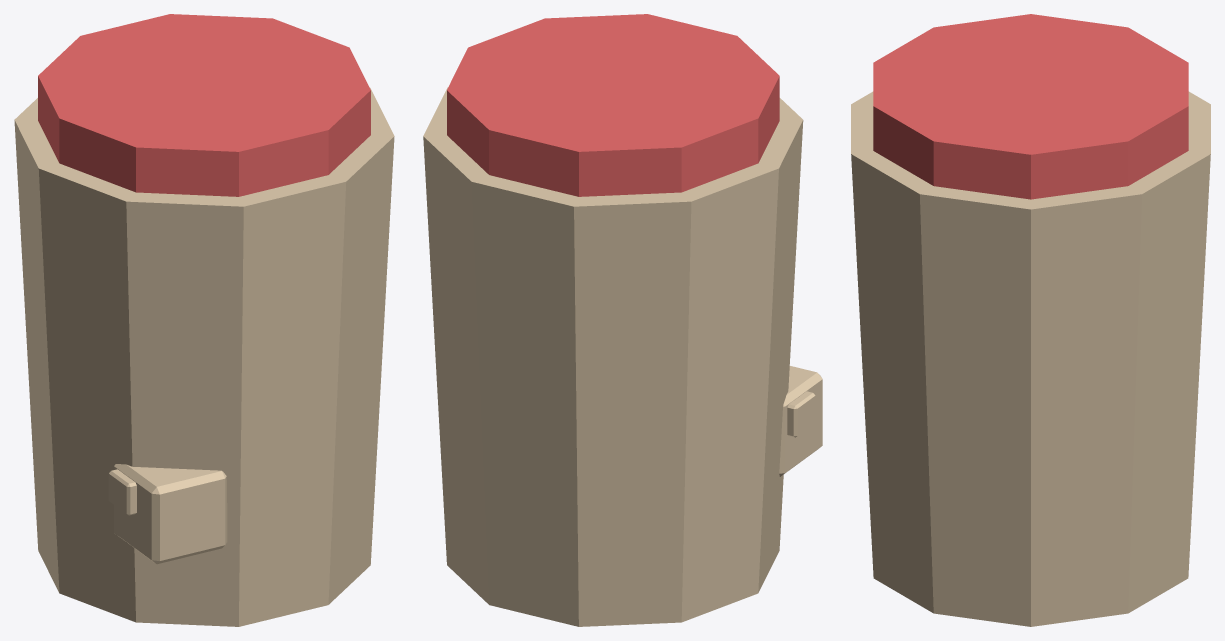
Rendered from b16_takeaway_coffee_cup.glb.
The picture shows the model from 3 angles, left to right: view 1: azimuth 30°, elevation 25°; view 2: azimuth 150°, elevation 25°; view 3: azimuth 270°, elevation 25°; orthographic projection.
Parts seen in each view (by area): view 1: b16_takeaway_coffee_cup; view 2: b16_takeaway_coffee_cup; view 3: b16_takeaway_coffee_cup.
Part boxes in pixels (x1,y1,x2,y2): b16_takeaway_coffee_cup: (14,14,394,626); b16_takeaway_coffee_cup: (423,14,822,626); b16_takeaway_coffee_cup: (851,14,1210,626).
Size of the model in its own units: 0.092 by 0.126 by 0.087.
